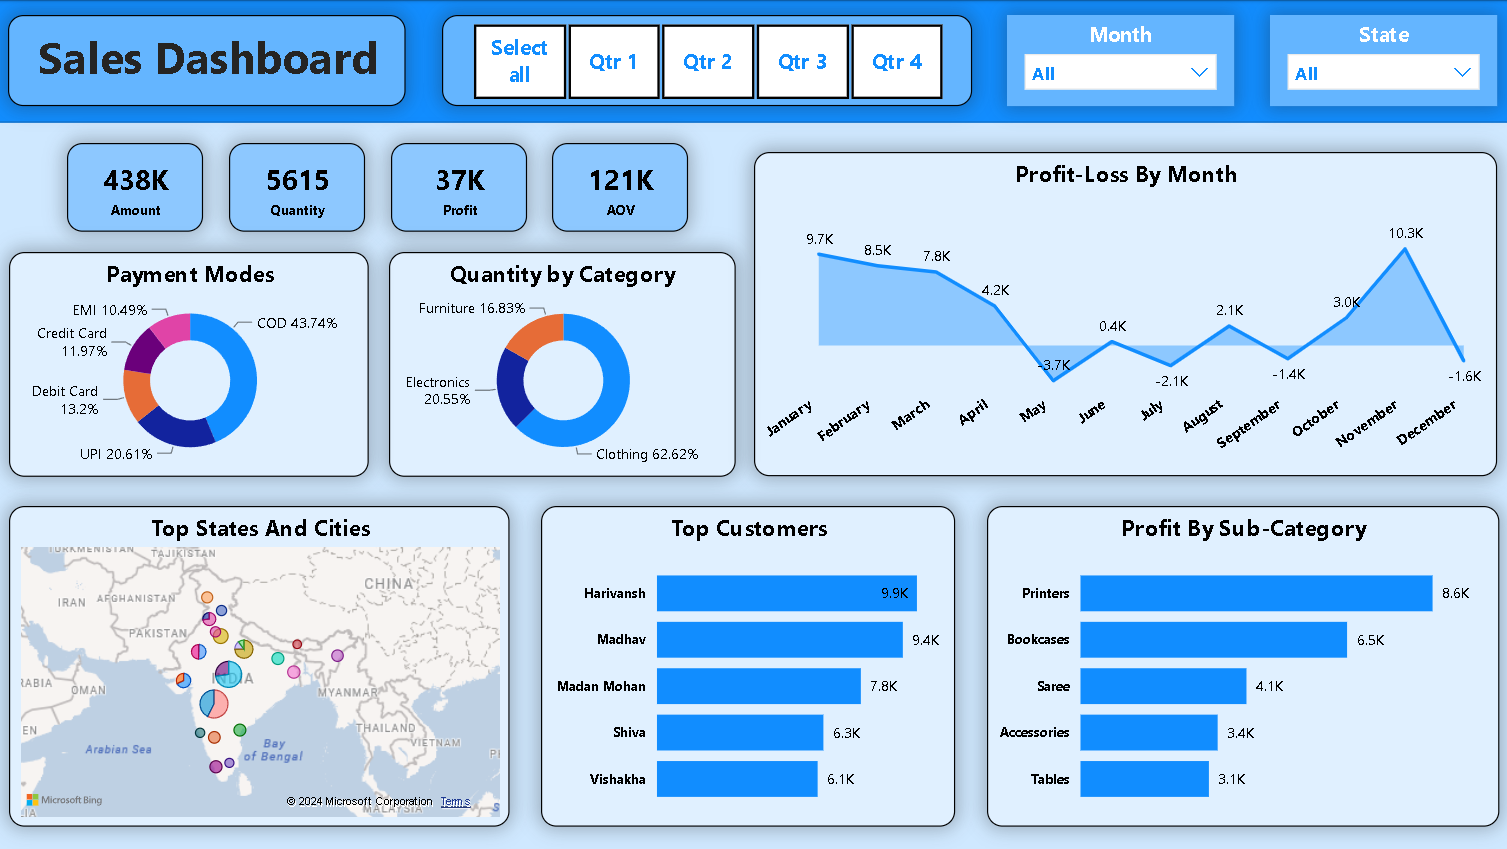

Layout of this report page (visuals, bound fields, positions):
{"tool":"powerbi","page":{"name":"Page 1","canvas":[1280,720],"ordinal":0},"visuals":[{"type":"shape","box":[0,0,1280,103.6],"z":0},{"type":"textbox","box":[9.4,12.4,336.3,76.7],"z":1000},{"type":"areaChart","title":"Profit-Loss By Month","fields":{"Category":["Orders.Order Date.Variation.Date Hierarchy.Month"],"Y":["Details.Profit"]},"box":[640,128.6,627.5,274.4],"z":2000},{"type":"donutChart","fields":{"Y":["Details.Quantity"],"Category":["Details.Category"]},"box":[331,213,292.7,190],"z":3000},{"type":"donutChart","title":"Payment Modes","fields":{"Y":["Details.Quantity"],"Category":["Details.PaymentMode"]},"box":[10.6,213,304.2,190],"z":4000},{"type":"card","fields":{"Values":["Details.Profit"]},"box":[332.7,120.9,115,75],"z":5000},{"type":"card","fields":{"Values":["Details.Quantity"]},"box":[196.2,120.9,115,75],"z":6000},{"type":"card","fields":{"Values":["Details.Amount"]},"box":[59.5,120.9,115.1,75],"z":7000},{"type":"barChart","title":"Profit By Sub-Category","fields":{"Category":["Details.Sub-Category"],"Y":["Details.Profit"]},"box":[836.7,427.9,432.7,270.6],"z":8000},{"type":"slicer","fields":{"Values":["Orders.Order Date.Variation.Date Hierarchy.Quarter"]},"box":[375.7,12.4,448.1,76.8],"z":9000},{"type":"card","fields":{"Values":["Details.AOV"]},"box":[469.2,120.9,115,75],"z":10000},{"type":"clusteredBarChart","title":"Top Customers","fields":{"Category":["Orders.CustomerName"],"Y":["Details.Amount"]},"box":[460.1,427.9,350.2,270.6],"z":11000},{"type":"map","title":"Top States And Cities","fields":{"Category":["Orders.State"],"Size":["Details.Amount"],"Series":["Orders.City"]},"box":[10.6,427.9,423.1,270.6],"z":12000},{"type":"slicer","title":"State","fields":{"Values":["Orders.State"]},"box":[1075.6,12.4,191.9,76.8],"z":13000},{"type":"slicer","title":"Month","fields":{"Values":["Orders.Order Date.Variation.Date Hierarchy.Month"]},"box":[853.7,12.4,191.9,76.8],"z":14000}]}

Visuals, with their boxes in screenshot pixels (x1, y1, x2, y2), scaled from the page's 1280x720 canvas onto the 1507x849 screenshot:
shape: 0:0:1506:122
textbox: 11:15:407:105
"Profit-Loss By Month" areaChart: 754:152:1492:475
donutChart - Details.Quantity x Details.Category: 390:251:734:475
"Payment Modes" donutChart: 12:251:371:475
card - Details.Profit: 392:143:527:231
card - Details.Quantity: 231:143:366:231
card - Details.Amount: 70:143:206:231
"Profit By Sub-Category" barChart: 985:505:1495:824
slicer - Orders.Order Date.Variation.Date Hierarchy.Quarter: 442:15:970:105
card - Details.AOV: 552:143:688:231
"Top Customers" clusteredBarChart: 542:505:954:824
"Top States And Cities" map: 12:505:511:824
"State" slicer: 1266:15:1492:105
"Month" slicer: 1005:15:1231:105
